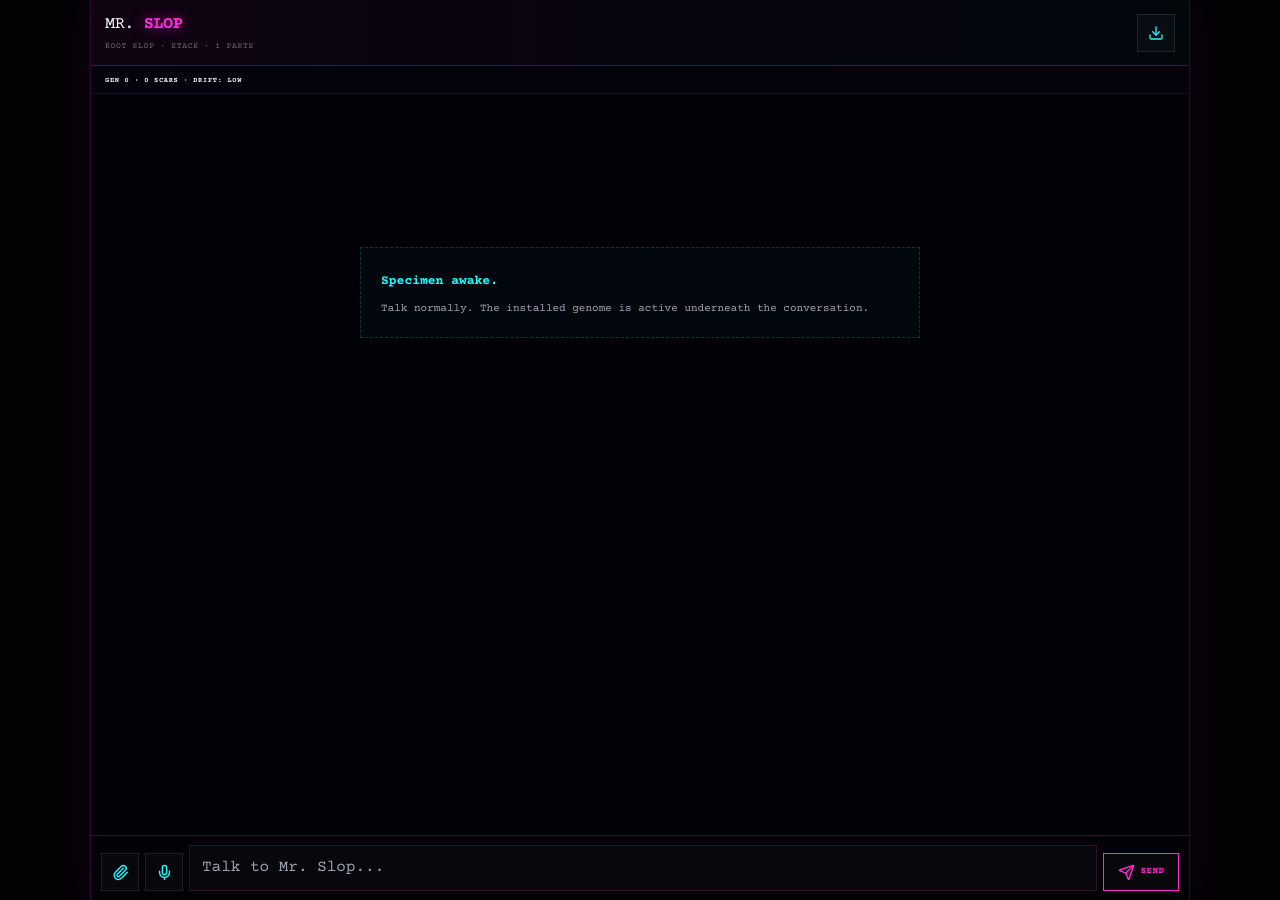
Test: Round 2B fork UI › keeps the visible parent intact when fork persistence rejects
The image size is (1280, 900).
Type "fork this thing" into the text box with placeholder "Talk to Mr. Slop...".
click(643, 868); type("fork this thing")  # box [189, 845, 1097, 891]
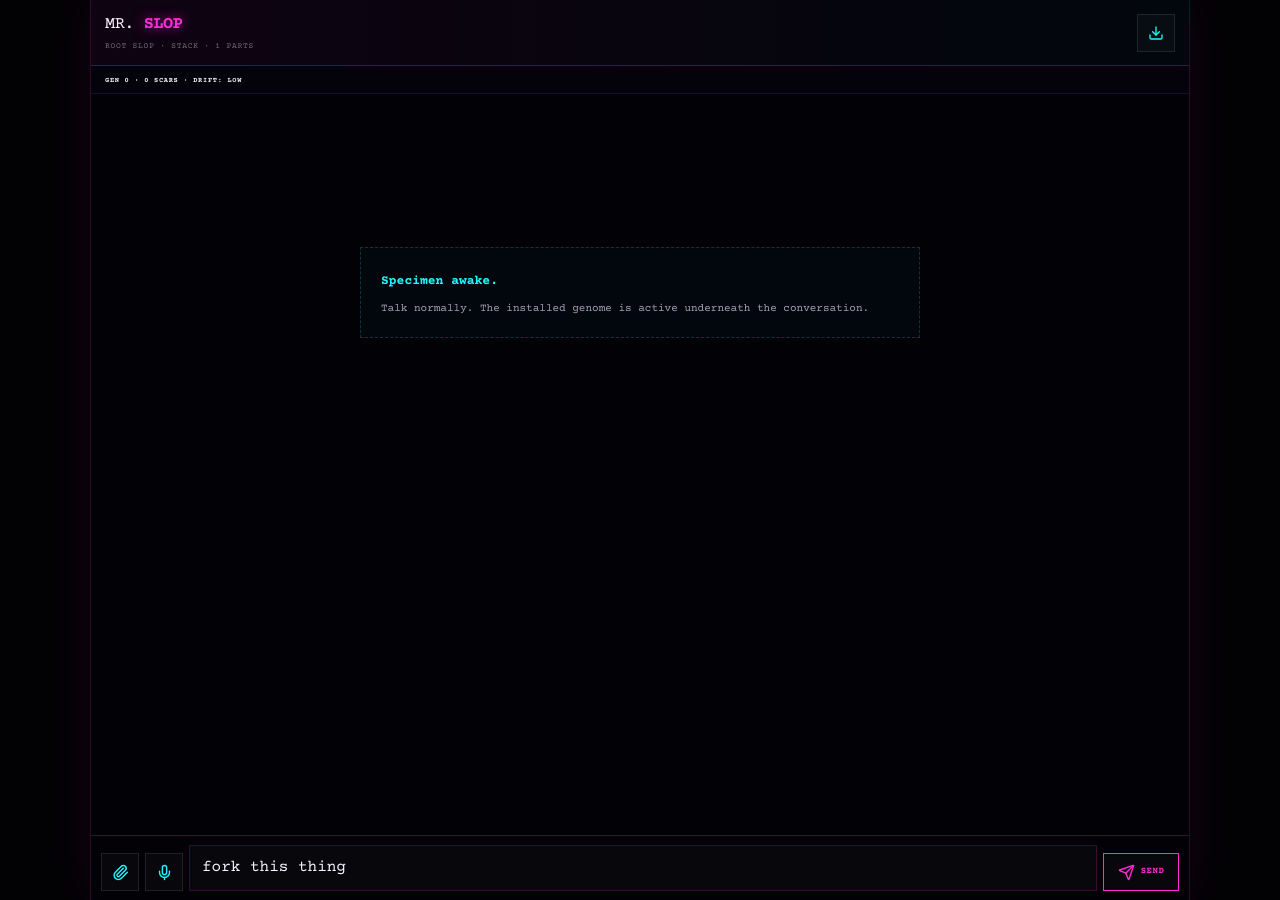
Click the button "SEND".
click(1141, 872)  # box [1103, 853, 1179, 891]
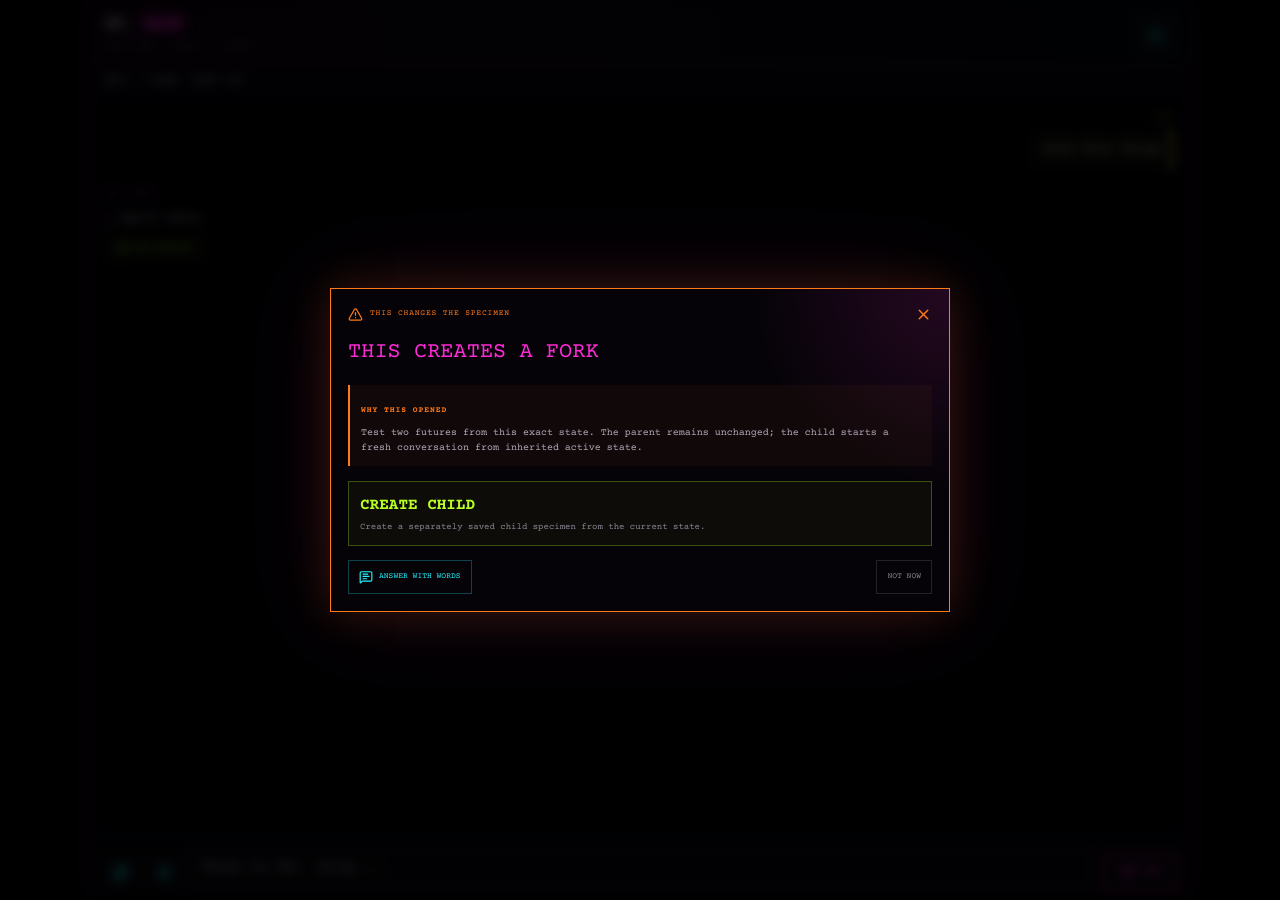
Click the button "CREATE CHILD".
click(418, 505)  # box [348, 481, 932, 546]
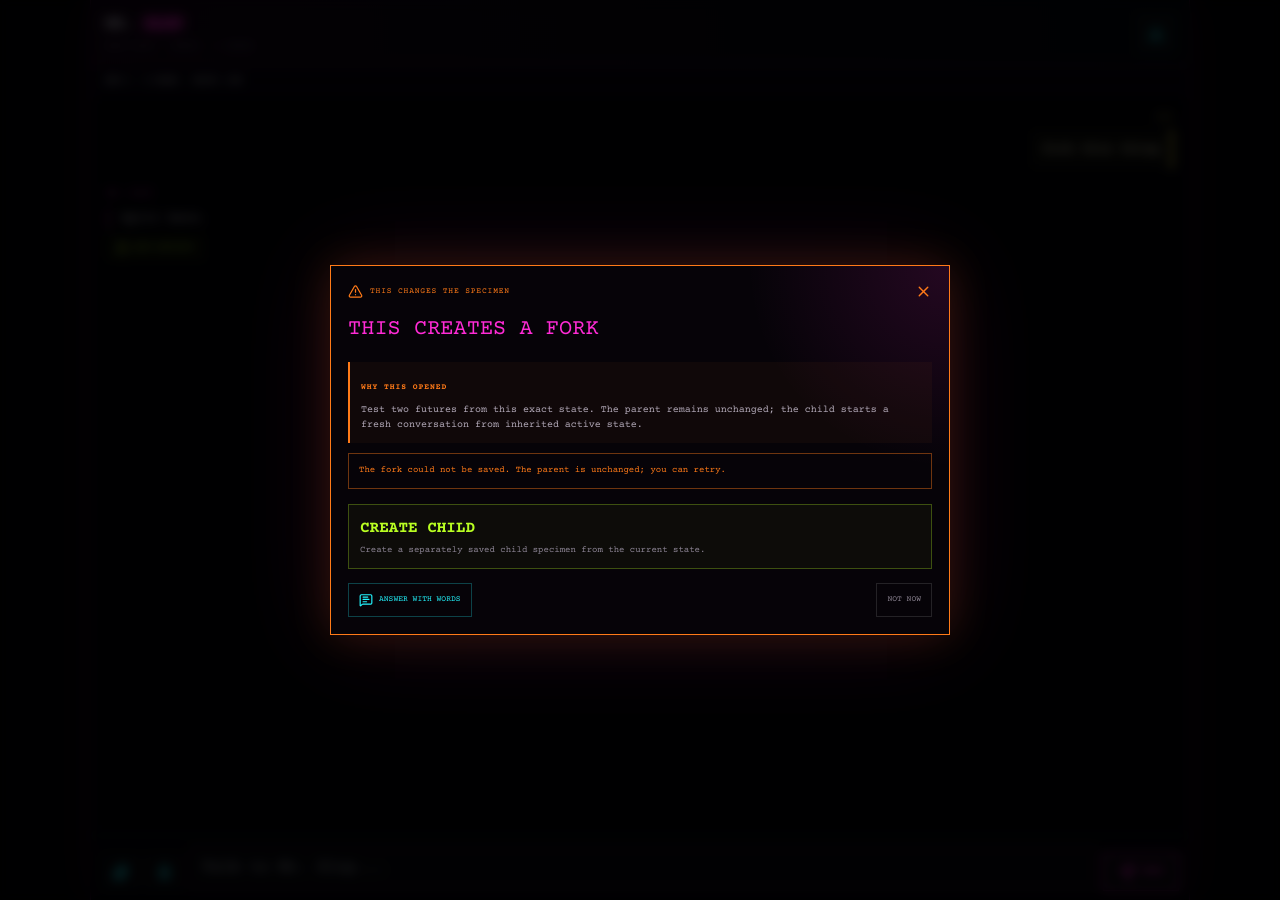
Result: the text "The fork could not be saved. The parent is unchanged; you can retry." is shown at [348, 453, 932, 488]
